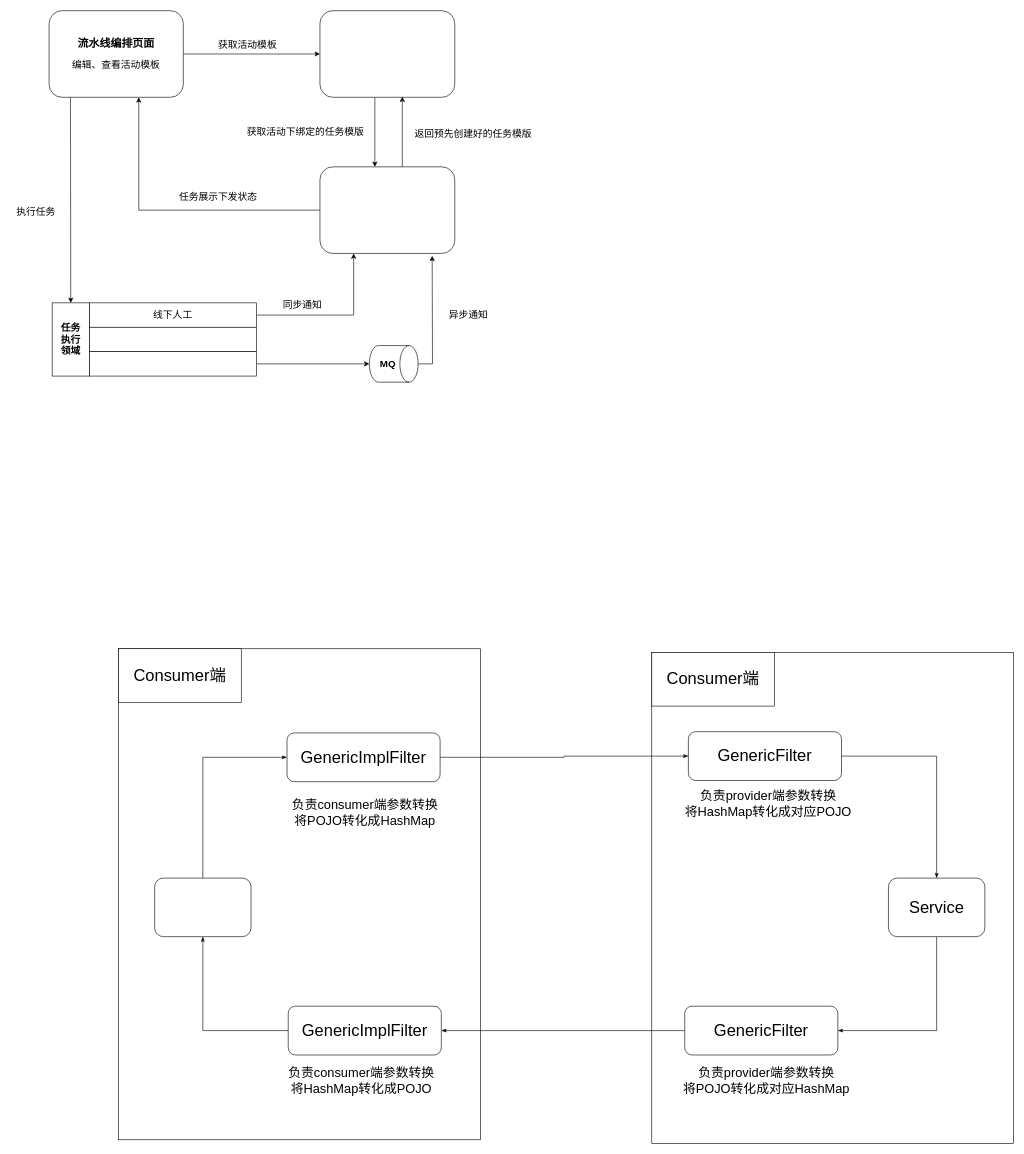
This 1024x1154 diagram has some shape labels left out. Each missing label, with the centre of its shape:
client: pixel 202 907
任务执行中心 根据任务模版创建任务 回填task biz_id: pixel 387 209
活动管理中心 活动流程编排、下发任务: pixel 387 53
线上api: pixel 173 363
线上人工: pixel 173 339
